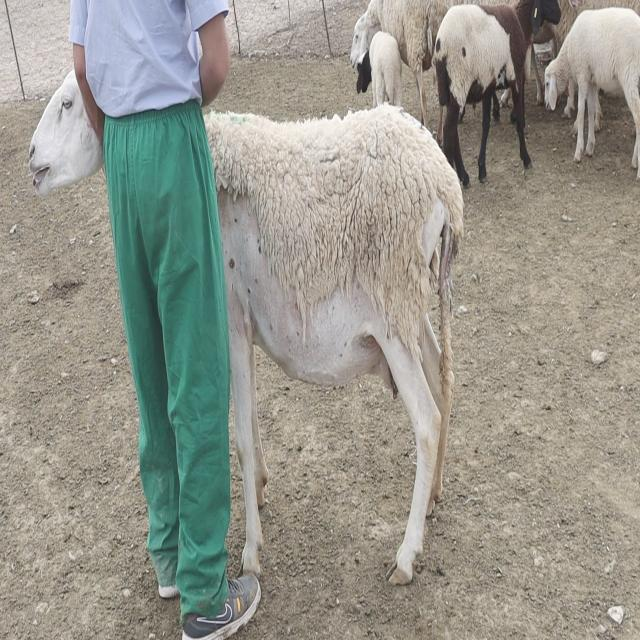Score_2: (205, 104, 463, 584)
